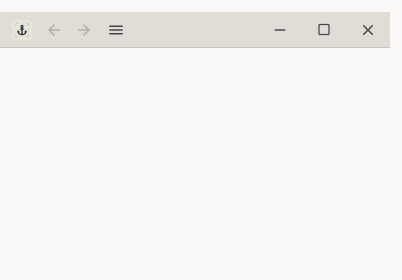
Test: <TitleBar /> › opens a category after the pointer rests on it
Click the button named "Menu" at (116, 30), box [102,16,130,44]
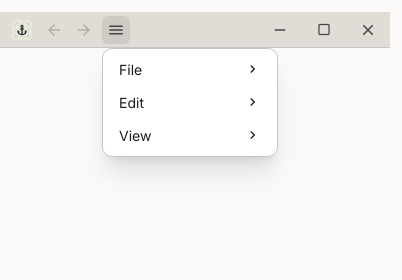
Hover over the menu item "File" at (190, 69), box [107,52,273,86]
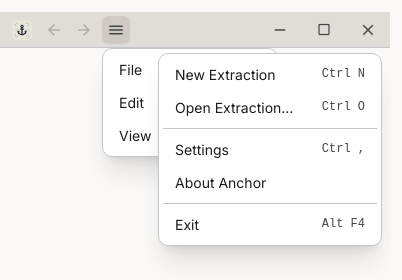
Check: the menu item "New Extraction Ctrl N" is shown, box [163,58,377,90]
